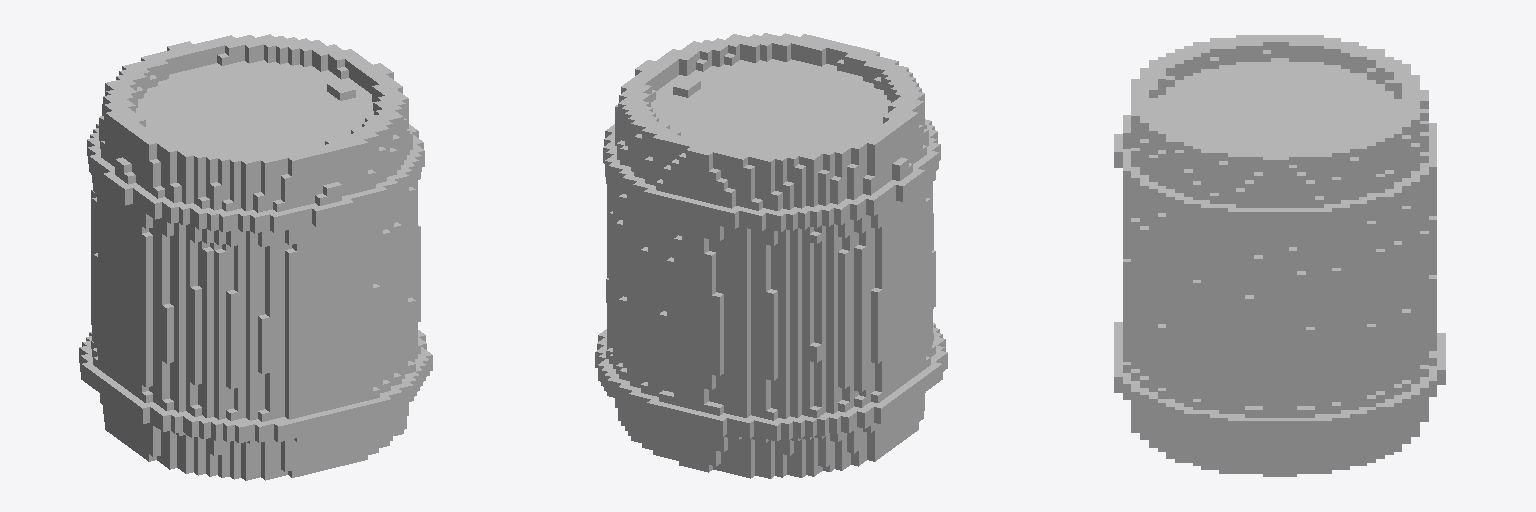
Rendered from barrel.obj.
3 views of the same model, side by side, from view 1: azimuth 30°, elevation 25°; view 2: azimuth 150°, elevation 25°; view 3: azimuth 270°, elevation 25° (orthographic).
Bounding box in the file's own units: 38 × 40 × 38.